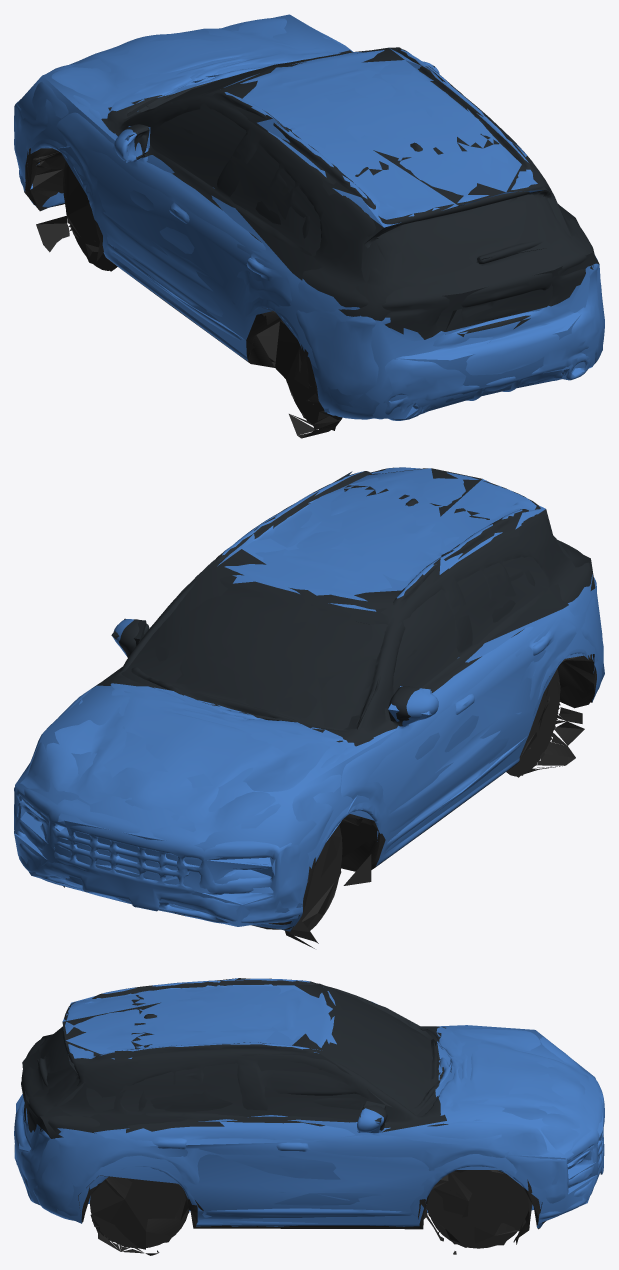
Rendered from porsche-cayenne.glb.
3 views of the same model, one above another, from view 1: azimuth 30°, elevation 25°; view 2: azimuth 150°, elevation 25°; view 3: azimuth 270°, elevation 25° (orthographic). The views are drawn at different scales.
Visible parts, largest first — view 1: body, far; view 2: body, far; view 3: body, far.
Part boxes in pixels (x1,y1,x2,y2): body: (14, 18, 604, 438); far: (16, 14, 602, 430); body: (14, 467, 603, 943); far: (14, 468, 604, 948); body: (14, 978, 604, 1255); far: (14, 978, 603, 1255).
Size of the model in its own units: 2.41 by 1.85 by 4.97.
